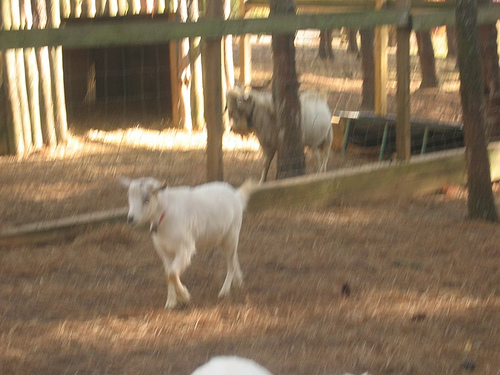goat: (117, 174, 253, 310), (219, 84, 333, 186)
